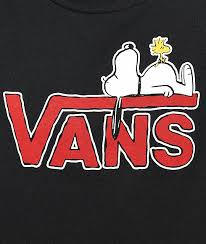vans: (3, 90, 200, 170)
